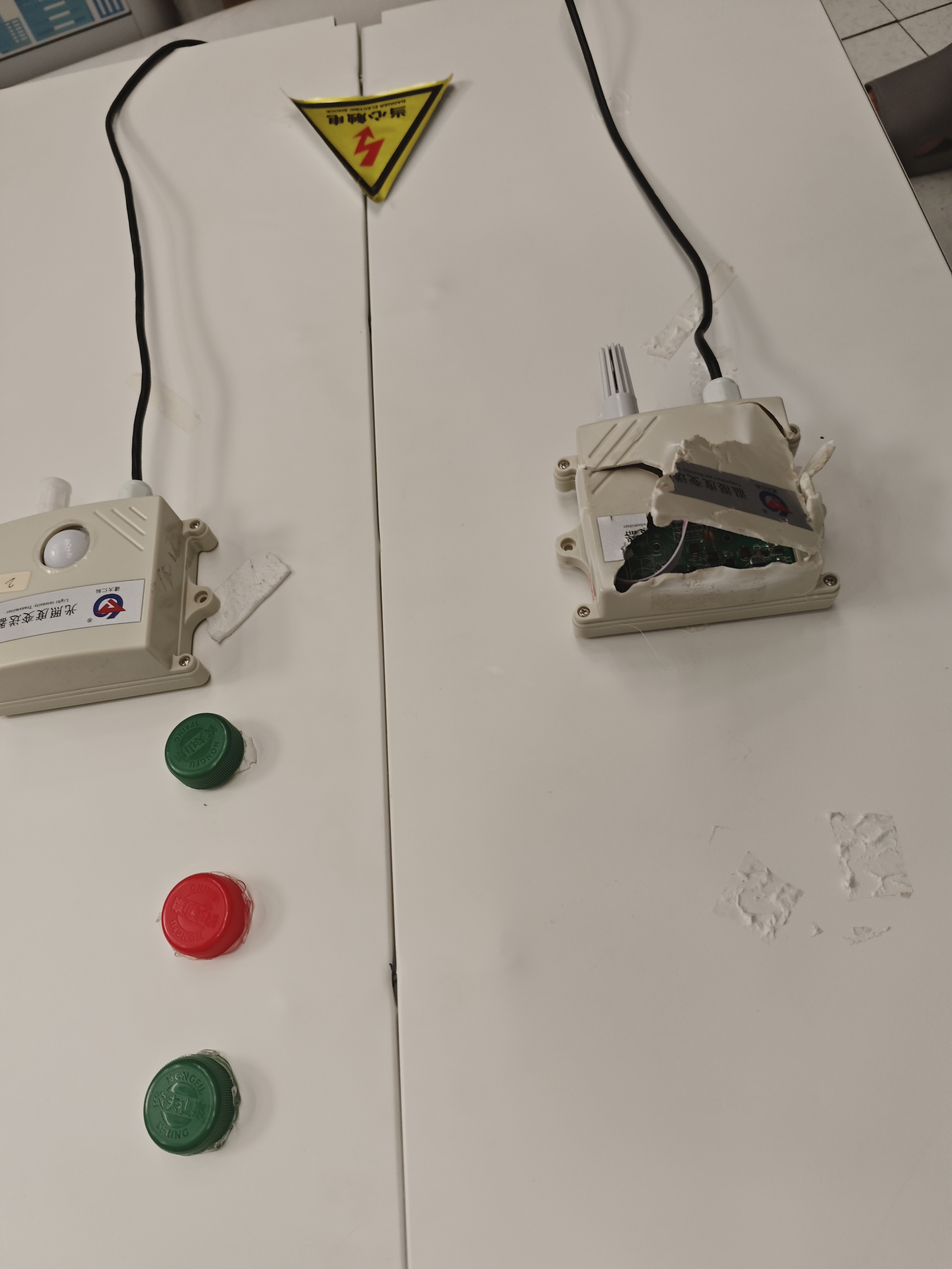red_warning: (145, 853, 302, 980)
sensor_damage: (519, 309, 860, 636)
